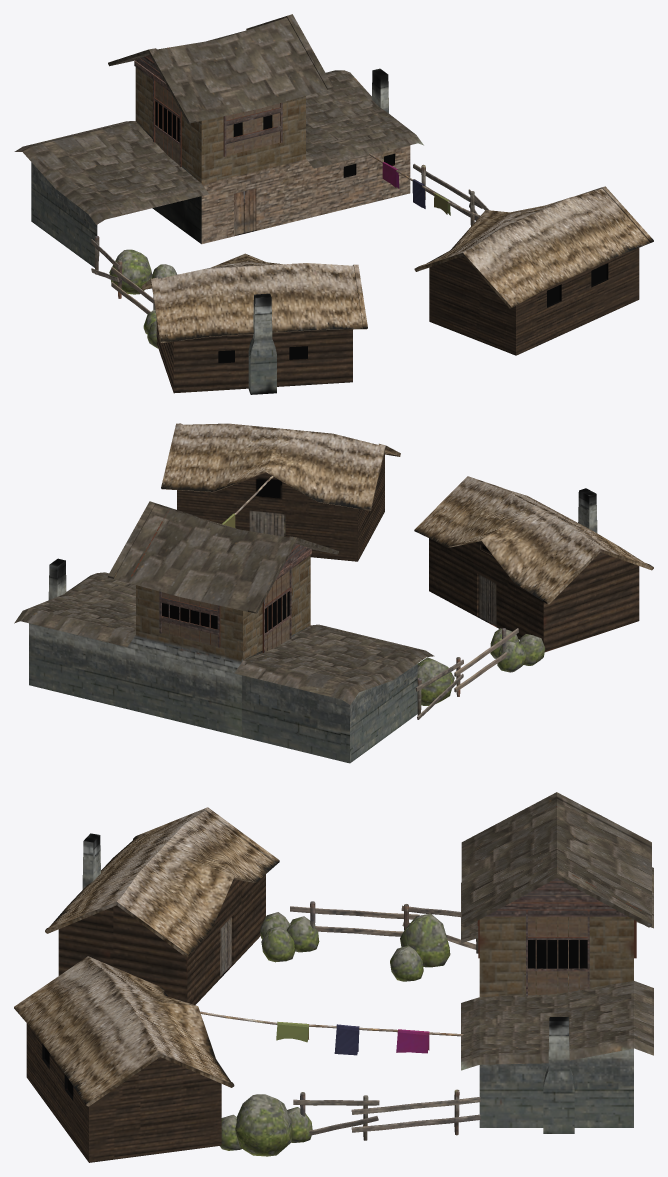
File: Village.fbx
3 views of the same model, one above another, from view 1: azimuth 30°, elevation 25°; view 2: azimuth 150°, elevation 25°; view 3: azimuth 270°, elevation 25° (orthographic). The views are drawn at different scales.
Visible parts, largest first — view 1: Village; view 2: Village; view 3: Village.
Boxes of the visible parts, x1=… form: Village: x1=14, y1=14, x2=653, y2=394; Village: x1=14, y1=423, x2=653, y2=763; Village: x1=14, y1=792, x2=653, y2=1162.
Size of the model in its own units: 1497 by 1501 by 575.
1 material, 1 textured.
